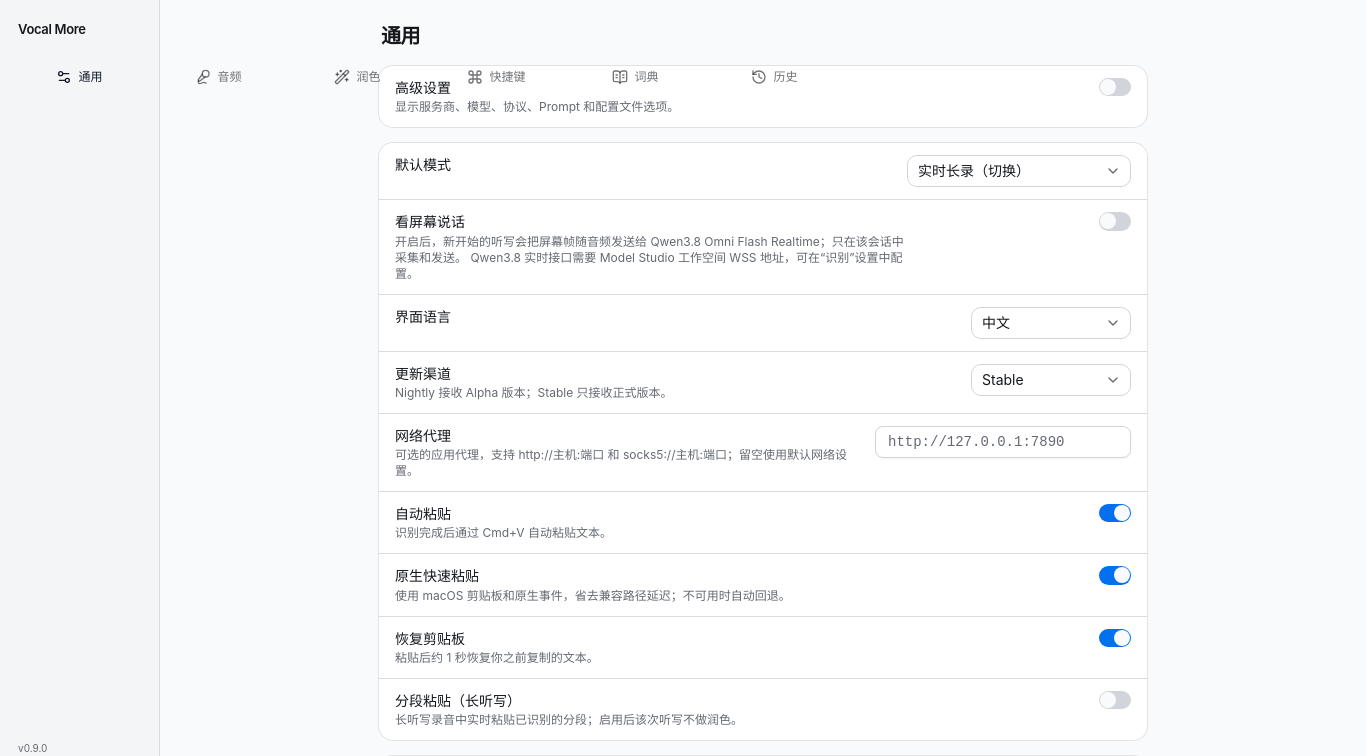
settings application › keeps model and API controls behind an explicit advanced switch
Expected: the field labelled "API Key" is not shown
Click the switch named "高级设置".
click(1115, 87)  # box x1=1099 y1=78 x2=1131 y2=96
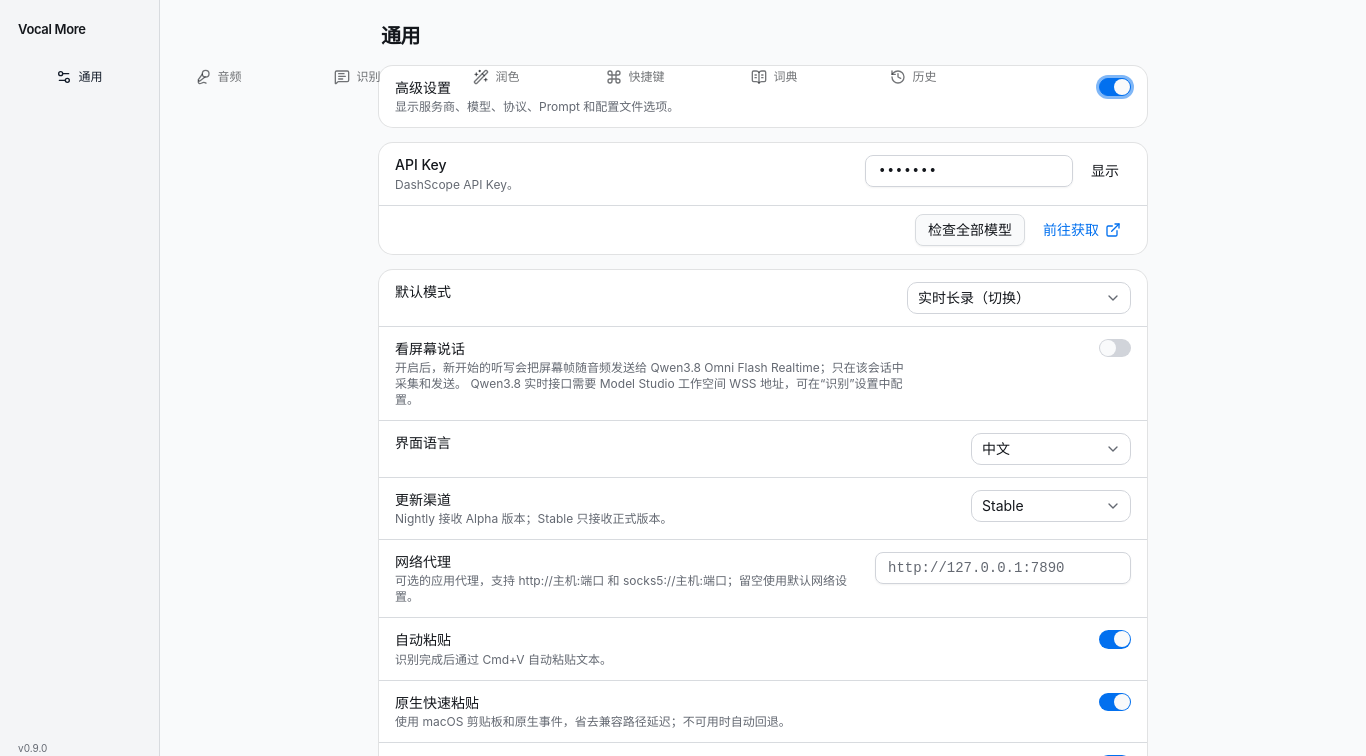
Expected: the tab "识别" is shown, x1=289 y1=59 x2=426 y2=95
Expected: the password field labelled "API Key" is shown, x1=865 y1=155 x2=1073 y2=187
